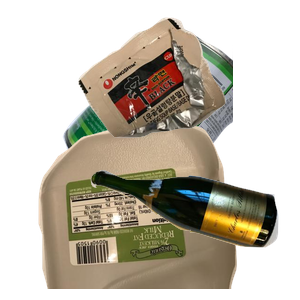glass: (88, 167, 300, 300)
metal: (60, 23, 300, 203)
plastic: (36, 120, 265, 300)
trash: (76, 15, 300, 145)
